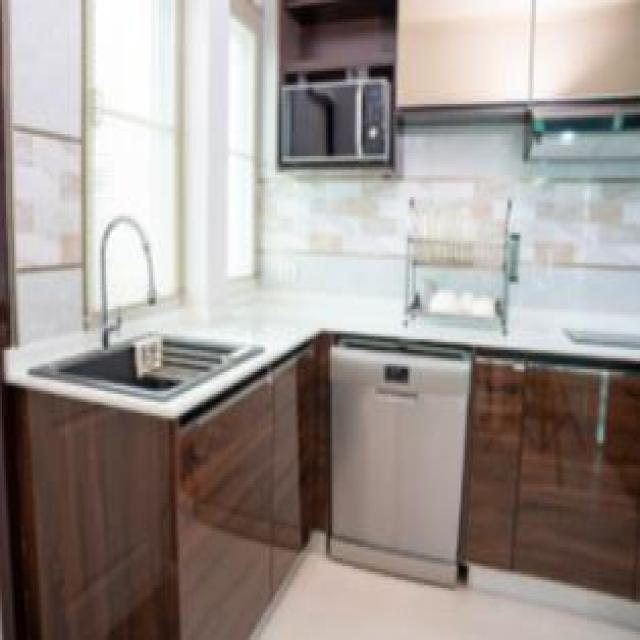dishwasher: (328, 331, 469, 588)
